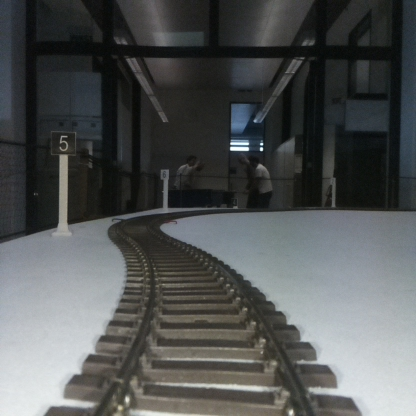black-info-5: (51, 131, 75, 234)
white-info-6: (161, 169, 168, 209)
